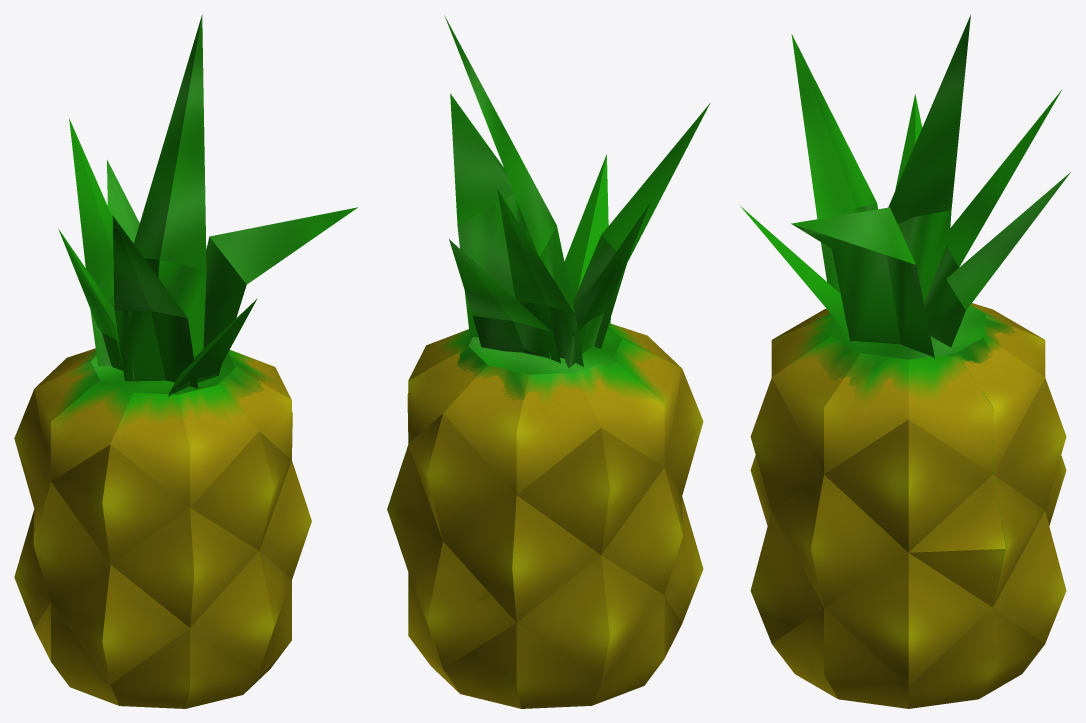
File: Pineapple.fbx
3 renders of one model, left to right at view 1: azimuth 30°, elevation 25°; view 2: azimuth 150°, elevation 25°; view 3: azimuth 270°, elevation 25°, orthographic. The views are drawn at different scales.
Parts seen in each view (by area): view 1: pCylinder2; view 2: pCylinder2; view 3: pCylinder2.
Boxes of the visible parts, x1,y1,x2,y2 form: pCylinder2: (14, 14, 357, 708); pCylinder2: (387, 15, 710, 708); pCylinder2: (739, 14, 1071, 708).
Size of the model in its own units: 23.32 by 50.24 by 22.23.
2 materials, 2 textured.
